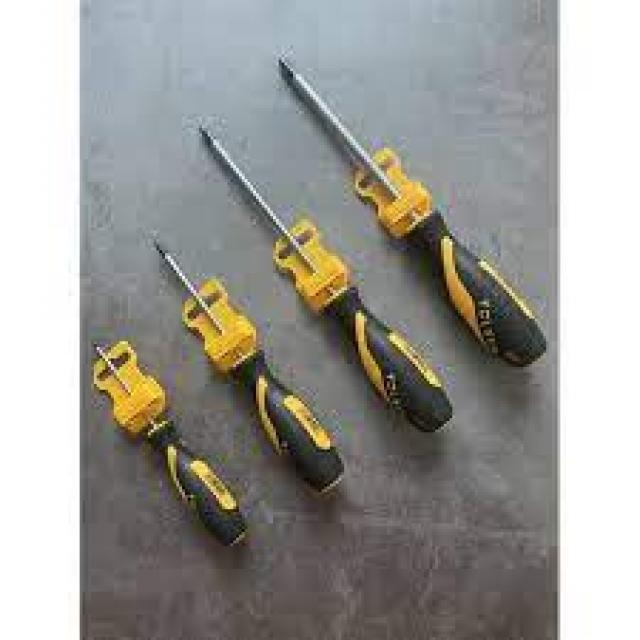screwdriver: (274, 52, 556, 372), (191, 121, 458, 437), (150, 235, 352, 500), (86, 336, 250, 550)
